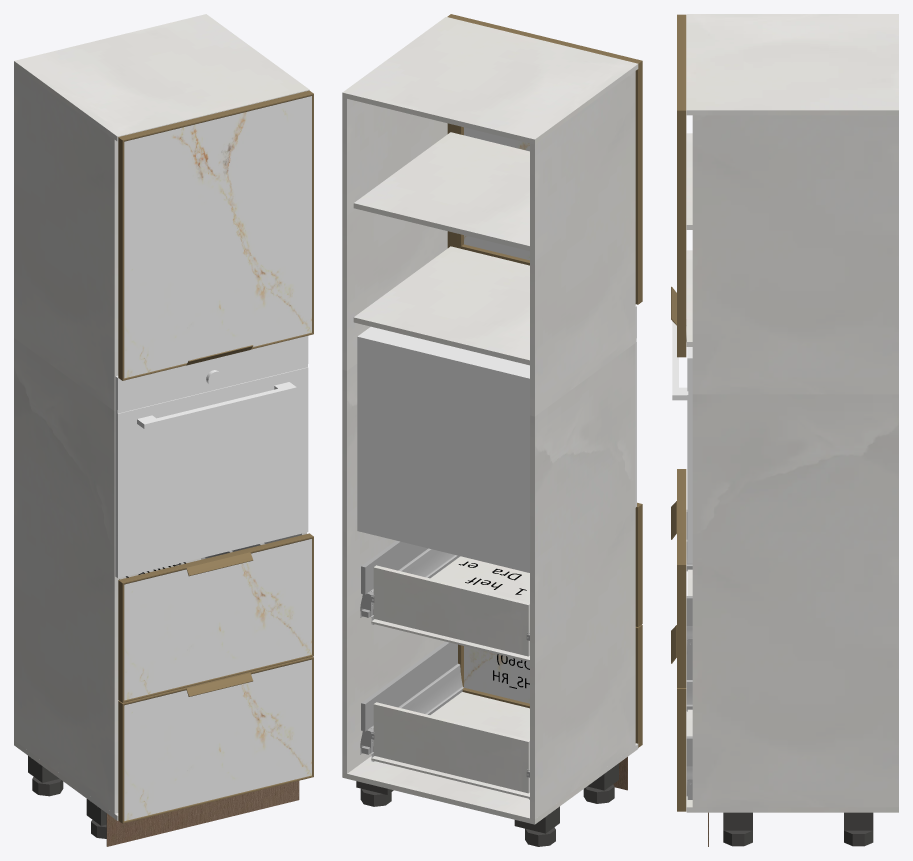
Rendered from TC-OV-TTS-ST-1SX-2HB-RHS-600-2040-560-15.glb.
3 renders of one model, left to right at view 1: azimuth 30°, elevation 25°; view 2: azimuth 150°, elevation 25°; view 3: azimuth 270°, elevation 25°, orthographic. The views are drawn at different scales.
Visible parts, largest first — view 1: TP_node_0, Object_node_75, SKP_Component1_node, Object_node_73, Object_node_71, TP, Object_node_77, Extrusion_node_18, Extrusion_node_17, ExtrSplGeo_node, Extrusion_node_4, Extrusion_node_11 (+2 smaller); view 2: TP_node_0, SKP_Component0_node_0, TP_node_1, TP, TP_node_6, TP_node_7, TP_node_3, TP_node_5, TP_node, TP_node_2, TP_node_4, Object_node_39 (+9 smaller); view 3: TP_node_1, TP, Extrusion_node_16, SKP_Component1_node, TP_node, Extrusion_node_2, Extrusion_node_9, Extrusion_node_17, TP_node_6, TP_node_7, Plate_node_1, Plate_node (+3 smaller).
Boxes of the visible parts, x1=… form: TP_node_0: x1=14, y1=66, x2=119, y2=813; Object_node_75: x1=124, y1=96, x2=311, y2=378; SKP_Component1_node: x1=115, y1=336, x2=308, y2=578; Object_node_73: x1=124, y1=539, x2=311, y2=700; Object_node_71: x1=124, y1=659, x2=311, y2=820; TP: x1=14, y1=14, x2=309, y2=141; Object_node_77: x1=106, y1=781, x2=299, y2=846; Extrusion_node_18: x1=118, y1=137, x2=124, y2=380; Extrusion_node_17: x1=118, y1=90, x2=313, y2=141; ExtrSplGeo_node: x1=182, y1=549, x2=253, y2=576; Extrusion_node_4: x1=118, y1=701, x2=124, y2=823; Extrusion_node_11: x1=118, y1=580, x2=124, y2=702; TP_node_0: x1=530, y1=71, x2=635, y2=819; SKP_Component0_node_0: x1=357, y1=326, x2=529, y2=572; TP_node_1: x1=342, y1=97, x2=447, y2=773; TP: x1=342, y1=17, x2=638, y2=144; TP_node_6: x1=353, y1=246, x2=529, y2=365; TP_node_7: x1=353, y1=132, x2=529, y2=250; TP_node_3: x1=373, y1=702, x2=529, y2=793; TP_node_5: x1=373, y1=565, x2=529, y2=656; TP_node: x1=342, y1=743, x2=638, y2=824; TP_node_2: x1=371, y1=692, x2=529, y2=798; TP_node_4: x1=371, y1=556, x2=529, y2=661; Object_node_39: x1=361, y1=641, x2=457, y2=731; TP_node_1: x1=692, y1=115, x2=898, y2=807; TP: x1=686, y1=14, x2=898, y2=115; Extrusion_node_16: x1=677, y1=110, x2=686, y2=357; SKP_Component1_node: x1=672, y1=319, x2=692, y2=563; TP_node: x1=686, y1=711, x2=898, y2=812; Extrusion_node_2: x1=677, y1=689, x2=686, y2=811; Extrusion_node_9: x1=677, y1=565, x2=686, y2=687; Extrusion_node_17: x1=677, y1=14, x2=686, y2=110; TP_node_6: x1=686, y1=250, x2=692, y2=346; TP_node_7: x1=686, y1=133, x2=692, y2=229; Plate_node_1: x1=723, y1=812, x2=752, y2=830; Plate_node: x1=844, y1=812, x2=873, y2=830.
Size of what is drawn, in the model's own units: 0.6 by 2.14 by 0.6.
Materials: 9 (3 with a texture image).
